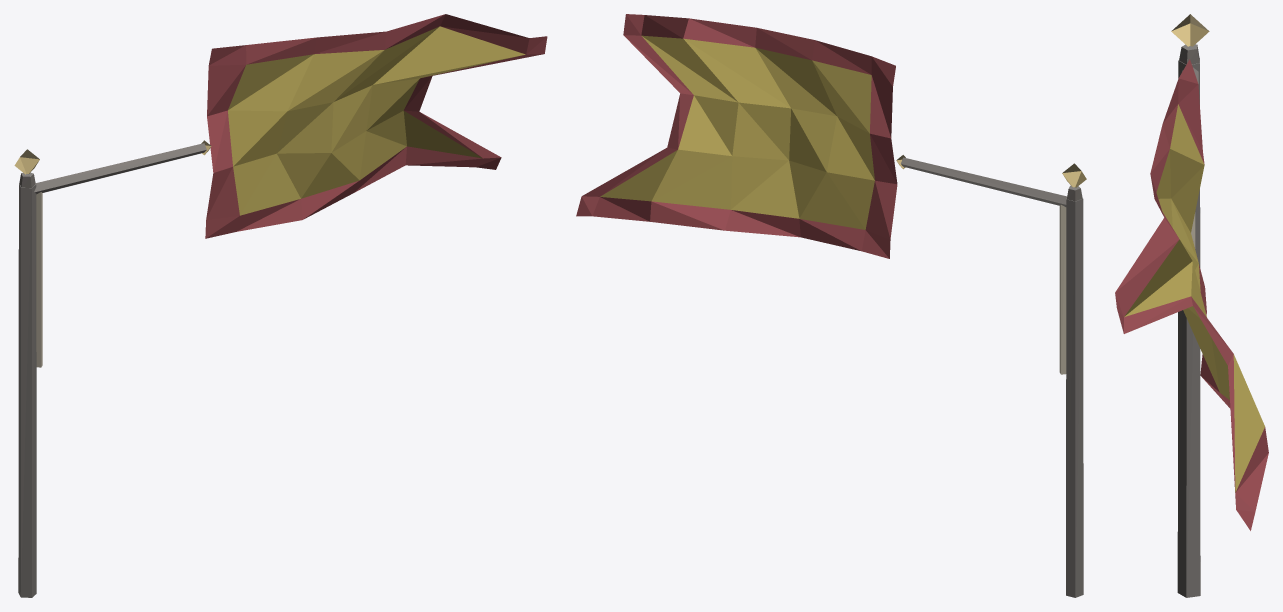
Rendered from flag.swallowtail.jinyan__pole.stick.fangun__armFly.glb.
The picture shows the model from 3 angles, left to right: view 1: azimuth 30°, elevation 25°; view 2: azimuth 150°, elevation 25°; view 3: azimuth 270°, elevation 25°; orthographic projection. The views are drawn at different scales.
Visible parts, largest first — view 1: flag.swallowtail.jinyan; view 2: flag.swallowtail.jinyan; view 3: flag.swallowtail.jinyan.
Boxes of the visible parts, <box> form: flag.swallowtail.jinyan: <box>14,14,547,597</box>; flag.swallowtail.jinyan: <box>576,14,1086,597</box>; flag.swallowtail.jinyan: <box>1115,14,1268,597</box>.
Size of the model in its own units: 2.71 by 2.57 by 0.5501.
